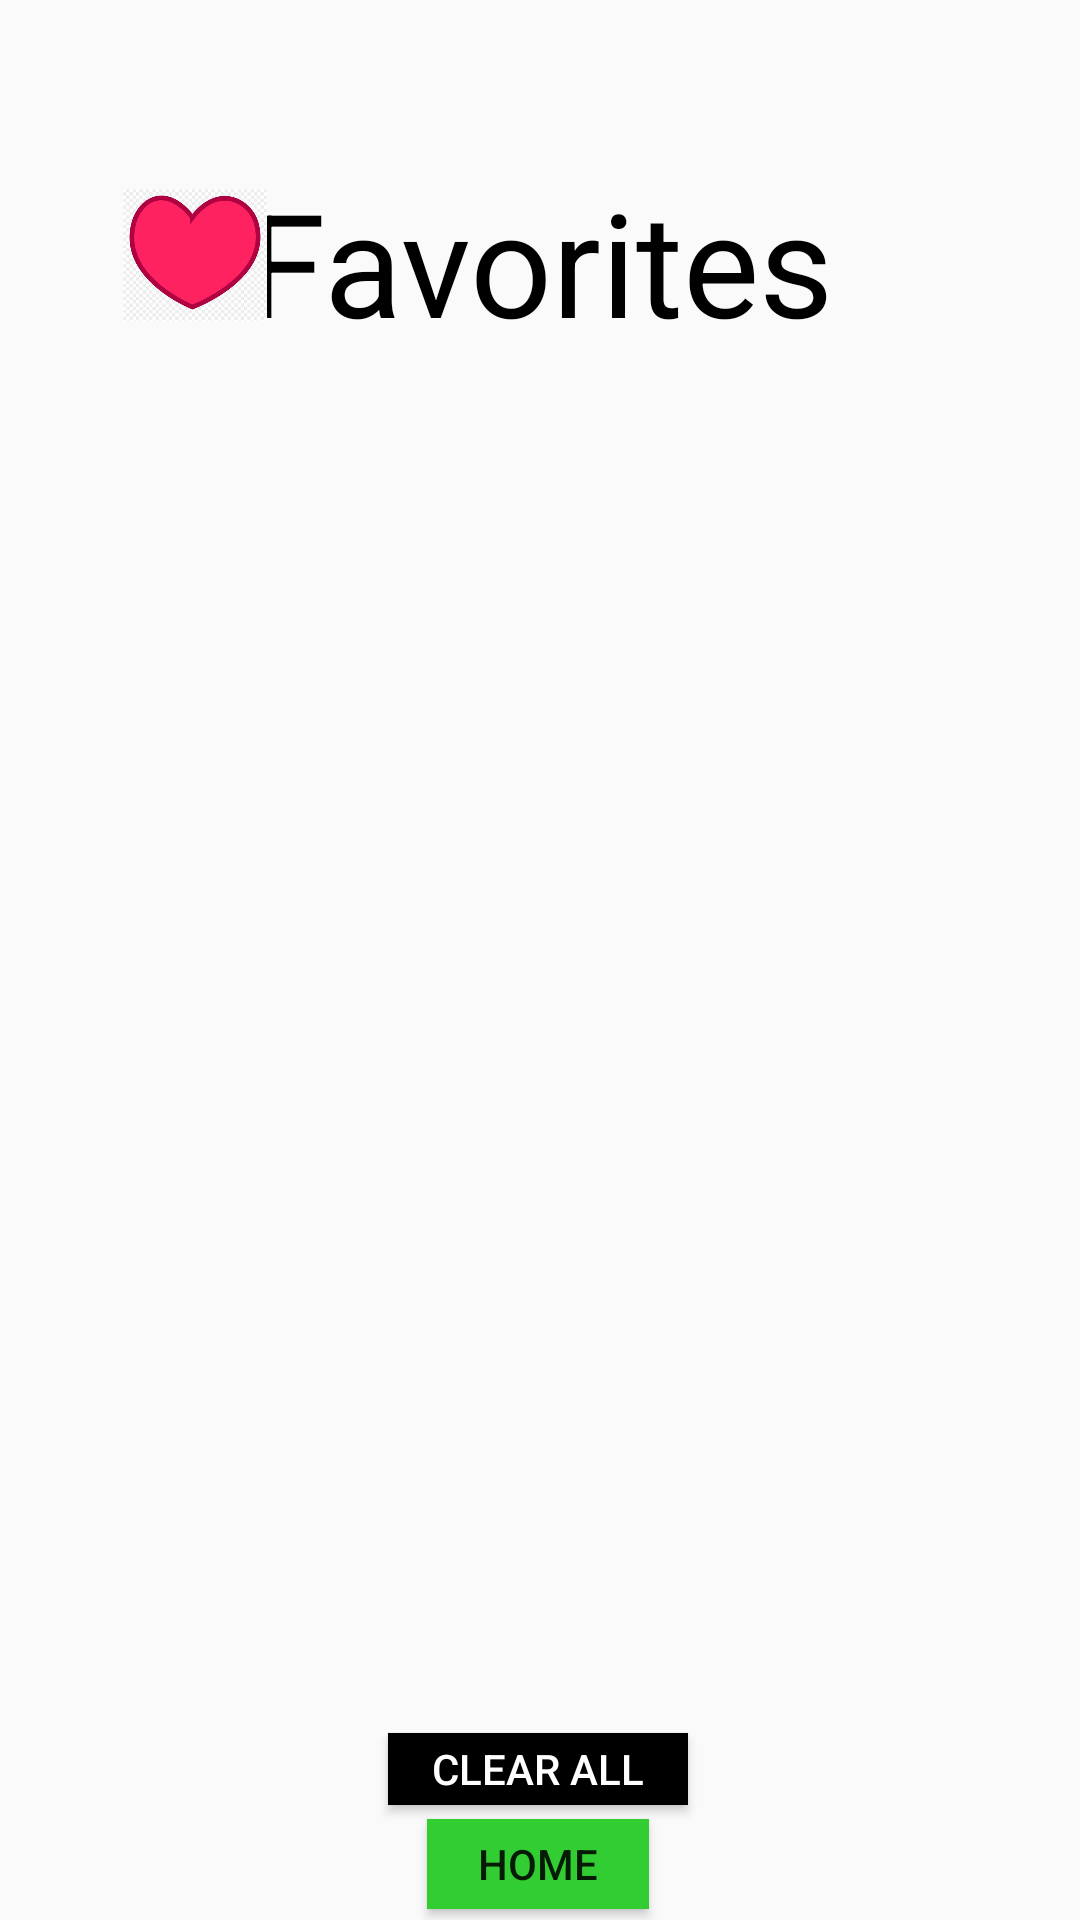

Where to tap for icons on this 1080 × 1920 app screen, as (x,y):
heart: (196,252)
